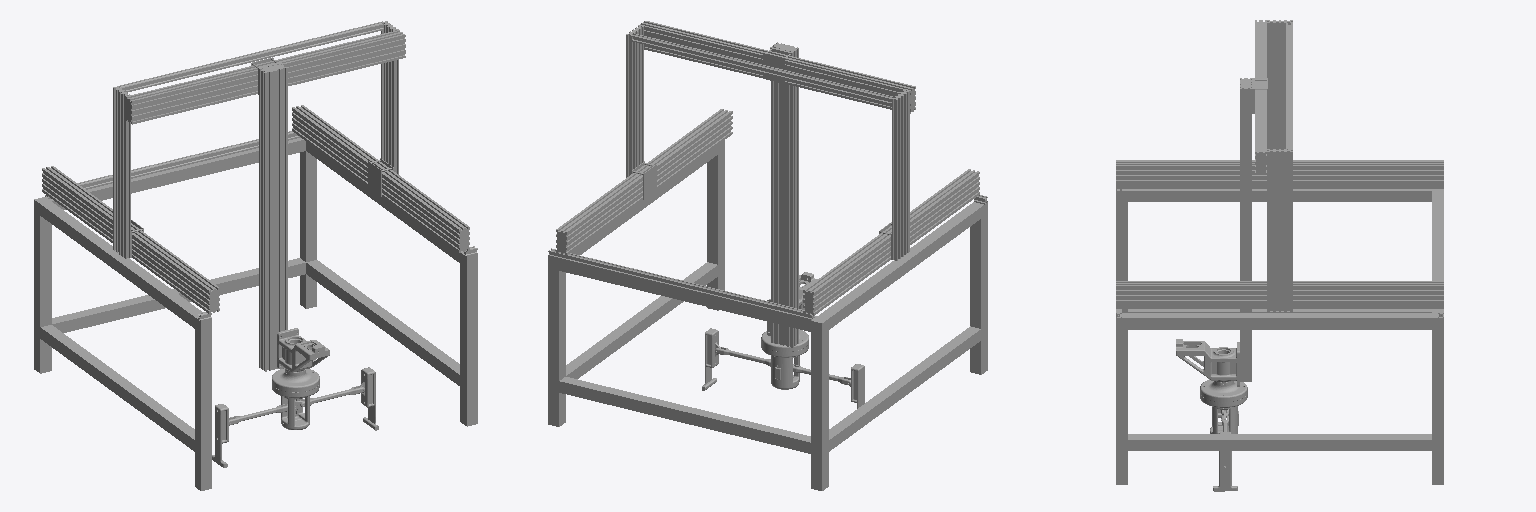
The robot description file, URDF, robot "robot":
<?xml version="1.0" ?>
<robot name="robot">
  <material name="silver">
    <color rgba="0.700 0.700 0.700 1.000"/>
  </material>
  <link name="base_link">
    <inertial>
      <origin rpy="0 0 0" xyz="0.45768622613563736 -0.4368264195359295 0.4295018217497949"/>
      <mass value="145.80079322670187"/>
      <inertia ixx="27.178522" ixy="-0.011589" ixz="-0.004434" iyy="35.333395" iyz="0.792709" izz="48.362655"/>
    </inertial>
    <visual>
      <origin rpy="0 0 0" xyz="0 0 0"/>
      <geometry>
        <mesh filename="../meshes/base_link.stl" scale="0.001 0.001 0.001"/>
      </geometry>
      <material name="silver"/>
    </visual>
    <collision>
      <origin rpy="0 0 0" xyz="0 0 0"/>
      <geometry>
        <mesh filename="../meshes/base_link.stl" scale="0.001 0.001 0.001"/>
      </geometry>
    </collision>
  </link>
  <link name="x_link_1">
    <inertial>
      <origin rpy="0 0 0" xyz="0.42900000000000316 -0.07702054233668737 0.4385579778257891"/>
      <mass value="33.63690371299227"/>
      <inertia ixx="0.818102" ixy="-1e-06" ixz="0.0" iyy="5.092965" iyz="0.097841" izz="4.355089"/>
    </inertial>
    <visual>
      <origin rpy="0 0 0" xyz="-0.0285 -0.0 -0.603"/>
      <geometry>
        <mesh filename="../meshes/x_link_1.stl" scale="0.001 0.001 0.001"/>
      </geometry>
      <material name="silver"/>
    </visual>
    <collision>
      <origin rpy="0 0 0" xyz="-0.0285 -0.0 -0.603"/>
      <geometry>
        <mesh filename="../meshes/x_link_1.stl" scale="0.001 0.001 0.001"/>
      </geometry>
    </collision>
  </link>
  <link name="y_link_1">
    <inertial>
      <origin rpy="0 0 0" xyz="0.04000698904160172 0.007766885164565626 0.04585403252661013"/>
      <mass value="0.5775307511653394"/>
      <inertia ixx="0.000621" ixy="-0.0" ixz="-0.0" iyy="0.000717" iyz="-6e-06" izz="0.000536"/>
    </inertial>
    <visual>
      <origin rpy="0 0 0" xyz="0.034 0.12 -1.081"/>
      <geometry>
        <mesh filename="../meshes/y_link_1.stl" scale="0.001 0.001 0.001"/>
      </geometry>
      <material name="silver"/>
    </visual>
    <collision>
      <origin rpy="0 0 0" xyz="0.034 0.12 -1.081"/>
      <geometry>
        <mesh filename="../meshes/y_link_1.stl" scale="0.001 0.001 0.001"/>
      </geometry>
    </collision>
  </link>
  <link name="z_link_1">
    <inertial>
      <origin rpy="0 0 0" xyz="-0.04012934689566563 -0.020235685434398354 -0.5125000000000013"/>
      <mass value="22.428174832479133"/>
      <inertia ixx="1.966316" ixy="-5e-05" ixz="-0.0" iyy="1.974575" iyz="0.0" izz="0.013623"/>
    </inertial>
    <visual>
      <origin rpy="0 0 0" xyz="-0.046 0.1275 -1.171"/>
      <geometry>
        <mesh filename="../meshes/z_link_1.stl" scale="0.001 0.001 0.001"/>
      </geometry>
      <material name="silver"/>
    </visual>
    <collision>
      <origin rpy="0 0 0" xyz="-0.046 0.1275 -1.171"/>
      <geometry>
        <mesh filename="../meshes/z_link_1.stl" scale="0.001 0.001 0.001"/>
      </geometry>
    </collision>
  </link>
  <link name="cabezal_1">
    <inertial>
      <origin rpy="0 0 0" xyz="1.2055562844962009e-05 -0.074703758607254 0.074351694711558"/>
      <mass value="5.246895030843086"/>
      <inertia ixx="0.021135" ixy="3e-06" ixz="-1e-06" iyy="0.008283" iyz="0.004835" izz="0.018029"/>
    </inertial>
    <visual>
      <origin rpy="0 0 0" xyz="-0.046 0.1675 -0.146"/>
      <geometry>
        <mesh filename="../meshes/cabezal_1.stl" scale="0.001 0.001 0.001"/>
      </geometry>
      <material name="silver"/>
    </visual>
    <collision>
      <origin rpy="0 0 0" xyz="-0.046 0.1675 -0.146"/>
      <geometry>
        <mesh filename="../meshes/cabezal_1.stl" scale="0.001 0.001 0.001"/>
      </geometry>
    </collision>
  </link>
  <link name="Externo1_v1_1">
    <inertial>
      <origin rpy="0 0 0" xyz="-1.124100812432971e-15 2.220446049250313e-16 -0.035297157702443877"/>
      <mass value="3.103290090272312"/>
      <inertia ixx="0.00441" ixy="0.0" ixz="0.0" iyy="0.004405" iyz="-0.0" izz="0.008074"/>
    </inertial>
    <visual>
      <origin rpy="0 0 0" xyz="-0.046 0.2175 -0.1605"/>
      <geometry>
        <mesh filename="../meshes/Externo1_v1_1.stl" scale="0.001 0.001 0.001"/>
      </geometry>
      <material name="silver"/>
    </visual>
    <collision>
      <origin rpy="0 0 0" xyz="-0.046 0.2175 -0.1605"/>
      <geometry>
        <mesh filename="../meshes/Externo1_v1_1.stl" scale="0.001 0.001 0.001"/>
      </geometry>
    </collision>
  </link>
  <link name="cabezal_2_0_v1_1_1">
    <inertial>
      <origin rpy="0 0 0" xyz="-1.9836844046515478e-05 0.00327884619901872 -0.05001506846643826"/>
      <mass value="5.768314857333685"/>
      <inertia ixx="0.020245" ixy="0.0" ixz="-4e-06" iyy="0.020069" iyz="0.000603" izz="0.011543"/>
    </inertial>
    <visual>
      <origin rpy="0 0 0" xyz="-0.046 0.2175 -0.111"/>
      <geometry>
        <mesh filename="../meshes/cabezal_2.0_v1_1_1.stl" scale="0.001 0.001 0.001"/>
      </geometry>
      <material name="silver"/>
    </visual>
    <collision>
      <origin rpy="0 0 0" xyz="-0.046 0.2175 -0.111"/>
      <geometry>
        <mesh filename="../meshes/cabezal_2.0_v1_1_1.stl" scale="0.001 0.001 0.001"/>
      </geometry>
    </collision>
  </link>
  <link name="mg996R_v2_v1_1_1">
    <inertial>
      <origin rpy="0 0 0" xyz="-0.005038686876243849 0.008828221063192837 0.024744332717065876"/>
      <mass value="0.24706045427040543"/>
      <inertia ixx="6.5e-05" ixy="0.0" ixz="-0.0" iyy="4.3e-05" iyz="0.0" izz="3.8e-05"/>
    </inertial>
    <visual>
      <origin rpy="0 0 0" xyz="-0.05091 0.196978 0.0045"/>
      <geometry>
        <mesh filename="../meshes/mg996R_v2_v1_1_1.stl" scale="0.001 0.001 0.001"/>
      </geometry>
      <material name="silver"/>
    </visual>
    <collision>
      <origin rpy="0 0 0" xyz="-0.05091 0.196978 0.0045"/>
      <geometry>
        <mesh filename="../meshes/mg996R_v2_v1_1_1.stl" scale="0.001 0.001 0.001"/>
      </geometry>
    </collision>
  </link>
  <link name="Servo_horn_v2_v1_1">
    <inertial>
      <origin rpy="0 0 0" xyz="1.3515116238912994e-05 -0.0031874939270762903 -1.5161483180037294e-15"/>
      <mass value="0.005099610361289279"/>
      <inertia ixx="0.0" ixy="-0.0" ixz="0.0" iyy="0.0" iyz="-0.0" izz="0.0"/>
    </inertial>
    <visual>
      <origin rpy="0 0 0" xyz="-0.045961 0.2085 -0.03"/>
      <geometry>
        <mesh filename="../meshes/Servo_horn_v2_v1_1.stl" scale="0.001 0.001 0.001"/>
      </geometry>
      <material name="silver"/>
    </visual>
    <collision>
      <origin rpy="0 0 0" xyz="-0.045961 0.2085 -0.03"/>
      <geometry>
        <mesh filename="../meshes/Servo_horn_v2_v1_1.stl" scale="0.001 0.001 0.001"/>
      </geometry>
    </collision>
  </link>
  <link name="Externo3_v1_1_1">
    <inertial>
      <origin rpy="0 0 0" xyz="5.512835039023223e-06 -0.0011958164319734732 -1.2455314557513475e-15"/>
      <mass value="0.07977197198617901"/>
      <inertia ixx="5e-06" ixy="-0.0" ixz="-0.0" iyy="3e-05" iyz="0.0" izz="2.6e-05"/>
    </inertial>
    <visual>
      <origin rpy="0 0 0" xyz="-0.04598 0.213 -0.03"/>
      <geometry>
        <mesh filename="../meshes/Externo3_v1_1_1.stl" scale="0.001 0.001 0.001"/>
      </geometry>
      <material name="silver"/>
    </visual>
    <collision>
      <origin rpy="0 0 0" xyz="-0.04598 0.213 -0.03"/>
      <geometry>
        <mesh filename="../meshes/Externo3_v1_1_1.stl" scale="0.001 0.001 0.001"/>
      </geometry>
    </collision>
  </link>
  <link name="Paleta_1_1">
    <inertial>
      <origin rpy="0 0 0" xyz="-0.1070194860087463 0.004431382652601179 2.2922718924400787e-08"/>
      <mass value="0.3818616414823265"/>
      <inertia ixx="2.1e-05" ixy="-8e-06" ixz="0.0" iyy="0.00184" iyz="0.0" izz="0.001847"/>
    </inertial>
    <visual>
      <origin rpy="0 0 0" xyz="-0.021002 0.21811 -0.03"/>
      <geometry>
        <mesh filename="../meshes/Paleta_1_1.stl" scale="0.001 0.001 0.001"/>
      </geometry>
      <material name="silver"/>
    </visual>
    <collision>
      <origin rpy="0 0 0" xyz="-0.021002 0.21811 -0.03"/>
      <geometry>
        <mesh filename="../meshes/Paleta_1_1.stl" scale="0.001 0.001 0.001"/>
      </geometry>
    </collision>
  </link>
  <link name="Paleta_2_1">
    <inertial>
      <origin rpy="0 0 0" xyz="0.10697797649072537 0.0053688772917466765 2.2922719278284376e-08"/>
      <mass value="0.3818616414823265"/>
      <inertia ixx="2.1e-05" ixy="-8e-06" ixz="0.0" iyy="0.00184" iyz="0.0" izz="0.001847"/>
    </inertial>
    <visual>
      <origin rpy="0 0 0" xyz="-0.071002 0.21789 -0.03"/>
      <geometry>
        <mesh filename="../meshes/Paleta_2_1.stl" scale="0.001 0.001 0.001"/>
      </geometry>
      <material name="silver"/>
    </visual>
    <collision>
      <origin rpy="0 0 0" xyz="-0.071002 0.21789 -0.03"/>
      <geometry>
        <mesh filename="../meshes/Paleta_2_1.stl" scale="0.001 0.001 0.001"/>
      </geometry>
    </collision>
  </link>
  <link name="Pala_IZQ_1">
    <inertial>
      <origin rpy="0 0 0" xyz="-0.02679441920888964 0.003882677544928881 -0.019023121817095687"/>
      <mass value="1.1995109762545986"/>
      <inertia ixx="0.003525" ixy="0.0" ixz="-0.000204" iyy="0.003481" iyz="-1e-06" izz="0.000292"/>
    </inertial>
    <visual>
      <origin rpy="0 0 0" xyz="0.192996 0.219048 -0.03"/>
      <geometry>
        <mesh filename="../meshes/Pala_IZQ_1.stl" scale="0.001 0.001 0.001"/>
      </geometry>
      <material name="silver"/>
    </visual>
    <collision>
      <origin rpy="0 0 0" xyz="0.192996 0.219048 -0.03"/>
      <geometry>
        <mesh filename="../meshes/Pala_IZQ_1.stl" scale="0.001 0.001 0.001"/>
      </geometry>
    </collision>
  </link>
  <link name="Pala_DER_1">
    <inertial>
      <origin rpy="0 0 0" xyz="0.026759728063148136 0.004117255172863543 -0.019023121817094694"/>
      <mass value="1.1995109762545986"/>
      <inertia ixx="0.003525" ixy="0.0" ixz="0.000204" iyy="0.003481" iyz="1e-06" izz="0.000292"/>
    </inertial>
    <visual>
      <origin rpy="0 0 0" xyz="-0.285 0.216952 -0.03"/>
      <geometry>
        <mesh filename="../meshes/Pala_DER_1.stl" scale="0.001 0.001 0.001"/>
      </geometry>
      <material name="silver"/>
    </visual>
    <collision>
      <origin rpy="0 0 0" xyz="-0.285 0.216952 -0.03"/>
      <geometry>
        <mesh filename="../meshes/Pala_DER_1.stl" scale="0.001 0.001 0.001"/>
      </geometry>
    </collision>
  </link>
  <joint name="x_joint" type="prismatic">
    <origin rpy="0 0 0" xyz="0.0285 0.0 0.603"/>
    <parent link="base_link"/>
    <child link="x_link_1"/>
    <axis xyz="0.0 -1.0 0.0"/>
    <limit effort="10000" lower="0.02" upper="0.94" velocity="1000"/>
  </joint>
  <joint name="y_joint" type="prismatic">
    <origin rpy="0 0 0" xyz="-0.0625 -0.12 0.478"/>
    <parent link="x_link_1"/>
    <child link="y_link_1"/>
    <axis xyz="1.0 -0.0 -0.0"/>
    <limit effort="10000" lower="0.065" upper="0.838" velocity="1000"/>
  </joint>
  <joint name="z_joint" type="prismatic">
    <origin rpy="0 0 0" xyz="0.08 -0.0075 0.09"/>
    <parent link="y_link_1"/>
    <child link="z_link_1"/>
    <axis xyz="-0.0 -0.0 -1.0"/>
    <limit effort="10000" lower="-0.93" upper="0" velocity="1000"/>
  </joint>
  <joint name="Rig_1" type="fixed">
    <origin rpy="0 0 0" xyz="0.0 -0.04 -1.025"/>
    <parent link="z_link_1"/>
    <child link="cabezal_1"/>
  </joint>
  <joint name="R_joint" type="continuous">
    <origin rpy="0 0 0" xyz="0.0 -0.05 0.0145"/>
    <parent link="cabezal_1"/>
    <child link="Externo1_v1_1"/>
    <axis xyz="-0.0 -0.0 -1.0"/>
  </joint>
  <joint name="Rig_2" type="fixed">
    <origin rpy="0 0 0" xyz="0.0 0.0 -0.0495"/>
    <parent link="Externo1_v1_1"/>
    <child link="cabezal_2_0_v1_1_1"/>
  </joint>
  <joint name="Rig_3" type="fixed">
    <origin rpy="0 0 0" xyz="0.00491 0.020522 -0.1155"/>
    <parent link="cabezal_2_0_v1_1_1"/>
    <child link="mg996R_v2_v1_1_1"/>
  </joint>
  <joint name="Rig_4" type="fixed">
    <origin rpy="0 0 0" xyz="-0.004949 -0.011522 0.0345"/>
    <parent link="mg996R_v2_v1_1_1"/>
    <child link="Servo_horn_v2_v1_1"/>
  </joint>
  <joint name="Rig_5" type="fixed">
    <origin rpy="0 0 0" xyz="1.9e-05 -0.0045 0.0"/>
    <parent link="Servo_horn_v2_v1_1"/>
    <child link="Externo3_v1_1_1"/>
  </joint>
  <joint name="Grid_IZQ" type="prismatic">
    <origin rpy="0 0 0" xyz="-0.024978 -0.00511 0.0"/>
    <parent link="Externo3_v1_1_1"/>
    <child link="Paleta_1_1"/>
    <axis xyz="-0.99999 -0.004384 0.0"/>
    <mimic joint="Grid_DER" multiplier="-1" offset="0"/>
    <limit effort="100" lower="-0.040" upper="0.0" velocity="100"/>
  </joint>
  <joint name="Grid_DER" type="prismatic">
    <origin rpy="0 0 0" xyz="0.025022 -0.00489 0.0"/>
    <parent link="Externo3_v1_1_1"/>
    <child link="Paleta_2_1"/>
    <axis xyz="-0.99999 -0.004384 0.0"/>
    <limit effort="100" lower="0.0" upper="0.04" velocity="100"/>
  </joint>
  <joint name="Rig_6" type="fixed">
    <origin rpy="0 0 0" xyz="-0.213998 -0.000938 0.0"/>
    <parent link="Paleta_1_1"/>
    <child link="Pala_IZQ_1"/>
  </joint>
  <joint name="Rig_7" type="fixed">
    <origin rpy="0 0 0" xyz="0.213998 0.000938 0.0"/>
    <parent link="Paleta_2_1"/>
    <child link="Pala_DER_1"/>
  </joint>
</robot>

--- What the picture shows (computed from the rendered views, not written in the file) ---
Views: 3 orthographic renders of the robot side by side, from view 1: azimuth 30°, elevation 25°; view 2: azimuth 150°, elevation 25°; view 3: azimuth 270°, elevation 25°.
Model robot with 14 links and 13 joints (1 continuous, 5 prismatic, 7 fixed), rooted at base_link, posed joints at zero except 2 at the middle of their limits (x_joint = 0.48, y_joint = 0.4515).
Visible links, largest first — view 1: base_link, x_link_1, z_link_1, cabezal_1, cabezal_2_0_v1_1_1, Externo1_v1_1, Pala_DER_1, Pala_IZQ_1; view 2: base_link, x_link_1, z_link_1, cabezal_2_0_v1_1_1, Pala_DER_1, Pala_IZQ_1; view 3: base_link, x_link_1, z_link_1, cabezal_1, Externo1_v1_1, cabezal_2_0_v1_1_1, Pala_DER_1.
Link boxes in pixels (x1,y1,x2,y2): base_link: [34, 105, 477, 490]; x_link_1: [113, 21, 405, 258]; z_link_1: [259, 63, 287, 371]; cabezal_1: [277, 328, 329, 372]; cabezal_2_0_v1_1_1: [272, 384, 319, 429]; Externo1_v1_1: [272, 368, 319, 392]; Pala_DER_1: [359, 367, 378, 430]; Pala_IZQ_1: [212, 404, 230, 467]; base_link: [548, 109, 987, 490]; x_link_1: [626, 21, 915, 260]; z_link_1: [771, 42, 798, 347]; cabezal_2_0_v1_1_1: [761, 343, 808, 389]; Pala_DER_1: [702, 328, 720, 390]; Pala_IZQ_1: [849, 364, 864, 408]; base_link: [1116, 160, 1443, 484]; x_link_1: [1255, 20, 1292, 311]; z_link_1: [1240, 78, 1251, 381]; cabezal_1: [1176, 339, 1239, 386]; Externo1_v1_1: [1200, 379, 1247, 401]; cabezal_2_0_v1_1_1: [1200, 393, 1247, 433]; Pala_DER_1: [1213, 432, 1237, 491].
Bounding box of the posed robot: 0.995 × 1.04 × 1.27 m (x, y, z).
14 mesh visuals loaded from 14 distinct referenced files (14 binary STL).
